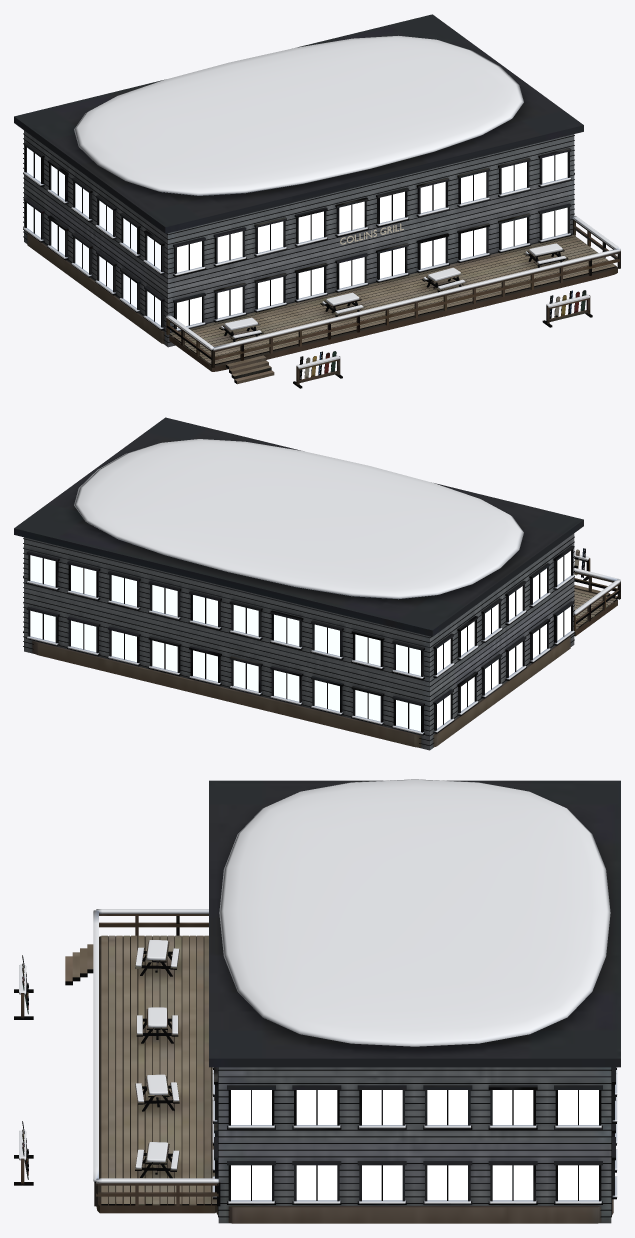
Rendered from watson_shelter.glb.
The picture shows the model from 3 angles, top to bottom: view 1: azimuth 30°, elevation 25°; view 2: azimuth 150°, elevation 25°; view 3: azimuth 270°, elevation 25°; orthographic projection. The views are drawn at different scales.
Visible parts, largest first — view 1: watson_shelter, watson_shelter_snow, watson_shelter_lit; view 2: watson_shelter, watson_shelter_snow, watson_shelter_lit; view 3: watson_shelter, watson_shelter_snow, watson_shelter_lit.
Boxes of the visible parts, left/top/right/bottom form: watson_shelter: left=14, top=14, right=620, bottom=388; watson_shelter_snow: left=23, top=35, right=620, bottom=368; watson_shelter_lit: left=27, top=147, right=567, bottom=328; watson_shelter: left=14, top=417, right=620, bottom=750; watson_shelter_snow: left=23, top=439, right=620, bottom=734; watson_shelter_lit: left=30, top=551, right=570, bottom=731; watson_shelter: left=14, top=780, right=620, bottom=1223; watson_shelter_snow: left=19, top=779, right=617, bottom=1203; watson_shelter_lit: left=231, top=1090, right=598, bottom=1200.
Bounding box in the file's own units: 26.8 × 8.55 × 24.75.
4 materials, 1 textured.
